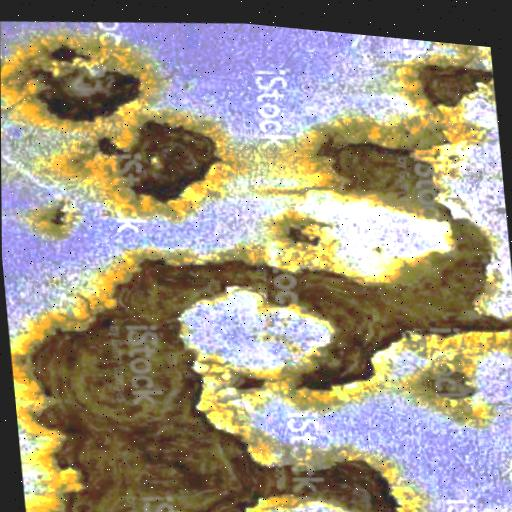corrosion: (18, 227, 264, 512), (255, 204, 512, 425), (0, 11, 234, 242), (316, 43, 504, 237), (266, 432, 423, 512)
